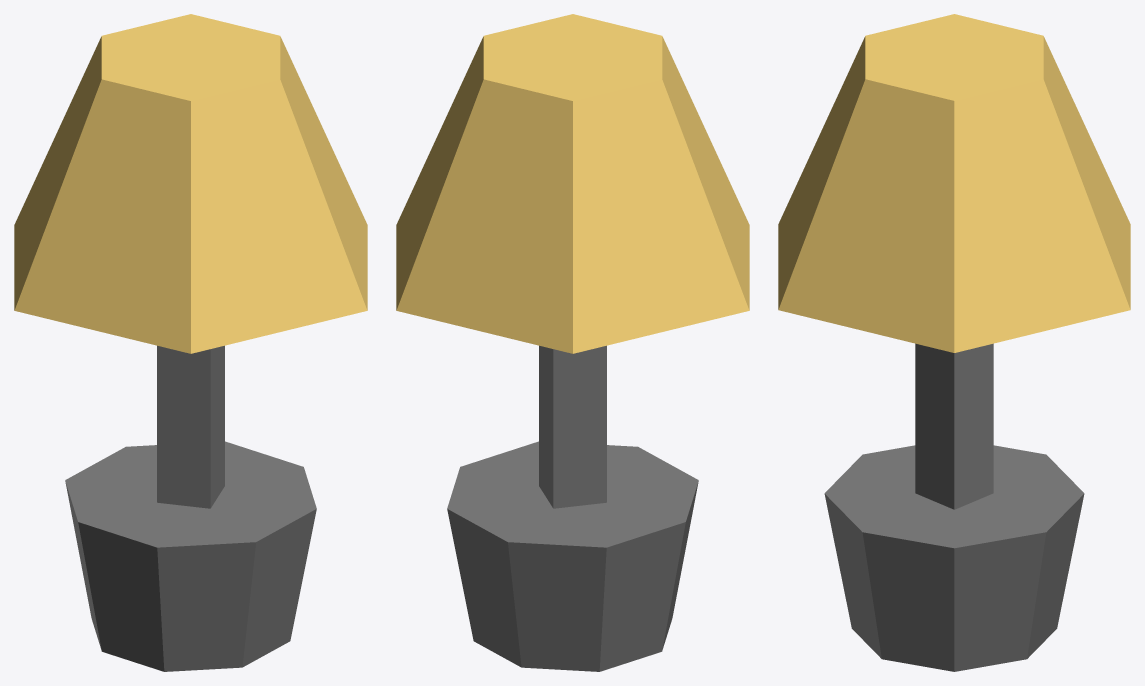
Rendered from Lamp_Table_2.fbx.
3 renders of one model, left to right at view 1: azimuth 30°, elevation 25°; view 2: azimuth 150°, elevation 25°; view 3: azimuth 270°, elevation 25°, orthographic.
Visible parts, largest first — view 1: polySurface1488; view 2: polySurface1488; view 3: polySurface1488.
Boxes of the visible parts, x1,y1,x2,y2 form: polySurface1488: (14,14,367,671); polySurface1488: (396,14,749,671); polySurface1488: (778,14,1130,671).
Size of the model in its own units: 0.5362 by 0.8307 by 0.4643.
1 material, 1 textured.
